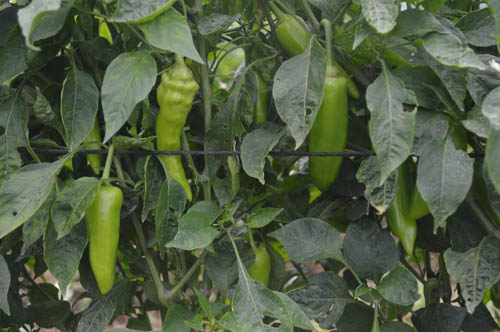ChiliPepper: (280, 18, 362, 97), (154, 74, 197, 200), (305, 78, 347, 195), (82, 184, 121, 294), (389, 178, 416, 255)
